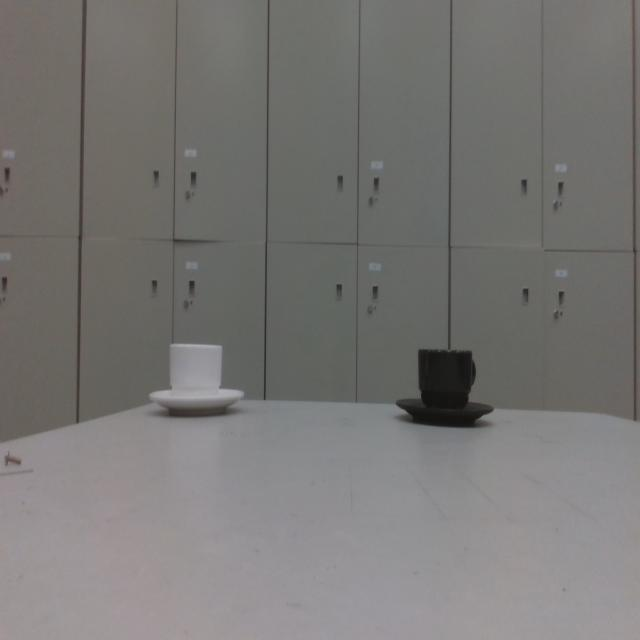black: (393, 347, 495, 430)
white: (148, 342, 246, 418)
